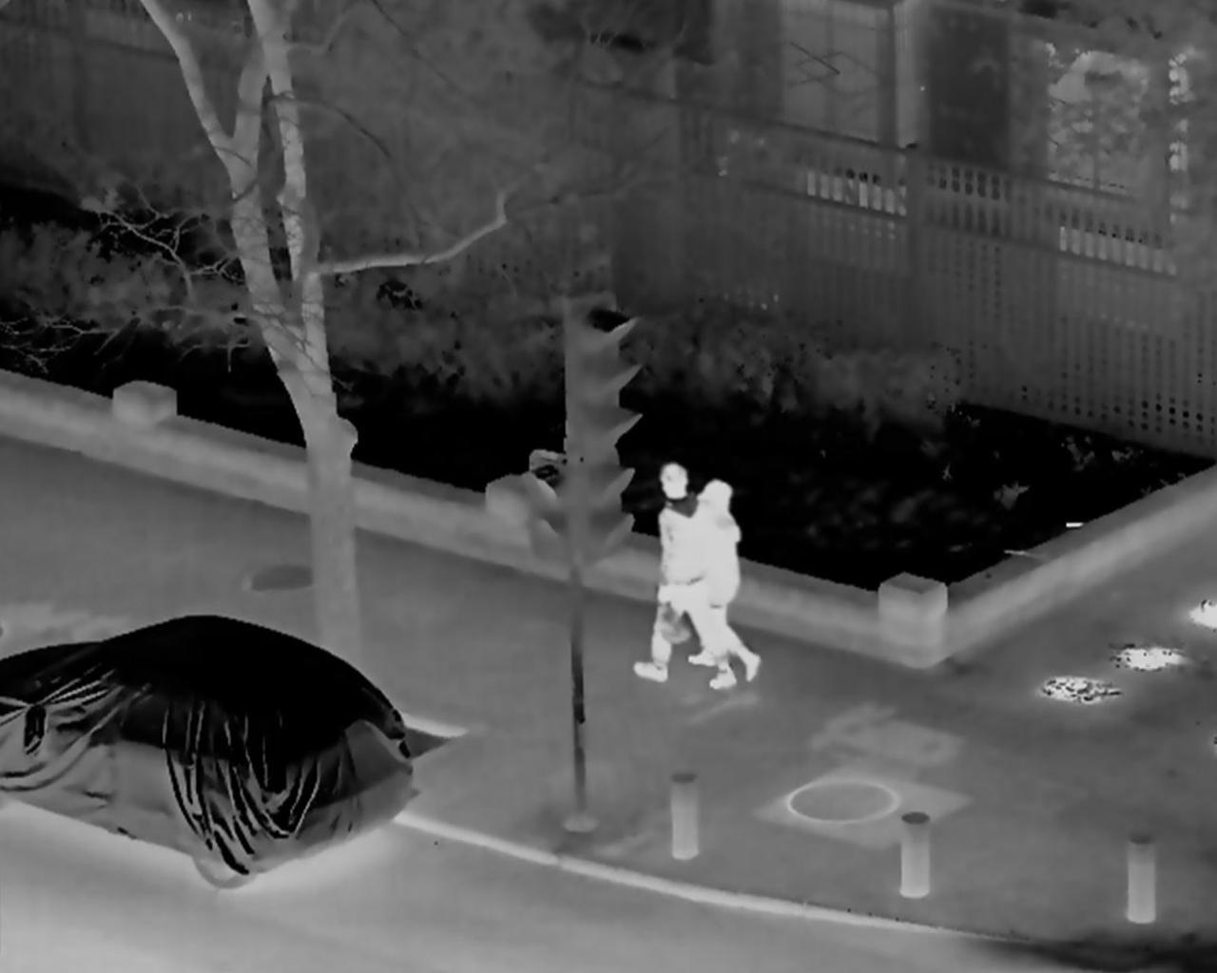person: (632, 460, 735, 694), (683, 481, 767, 683)
